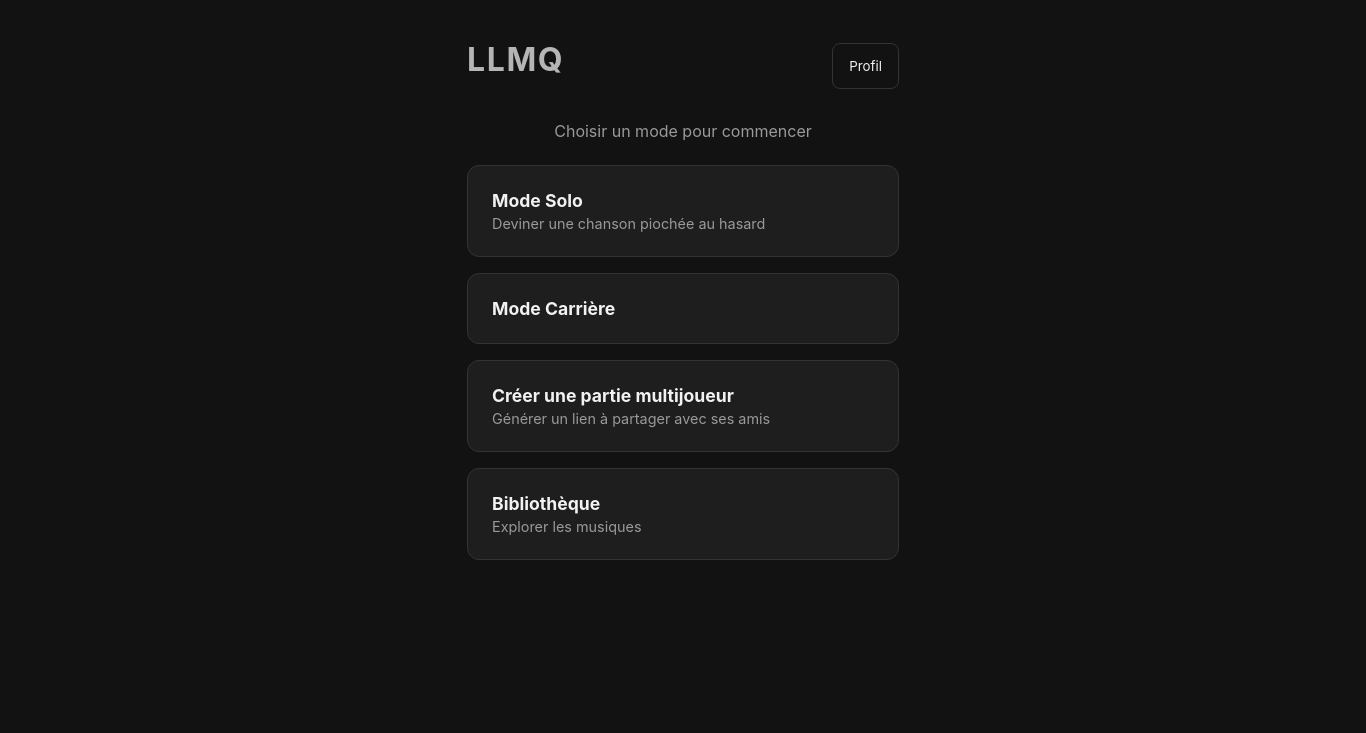
Scenario: App — Mode Carrière › the guessing screen of a single round is titled Se faire connaître
The image size is (1366, 733).
Click the button "Mode Carrière": point(554, 308) [467,273,899,344]
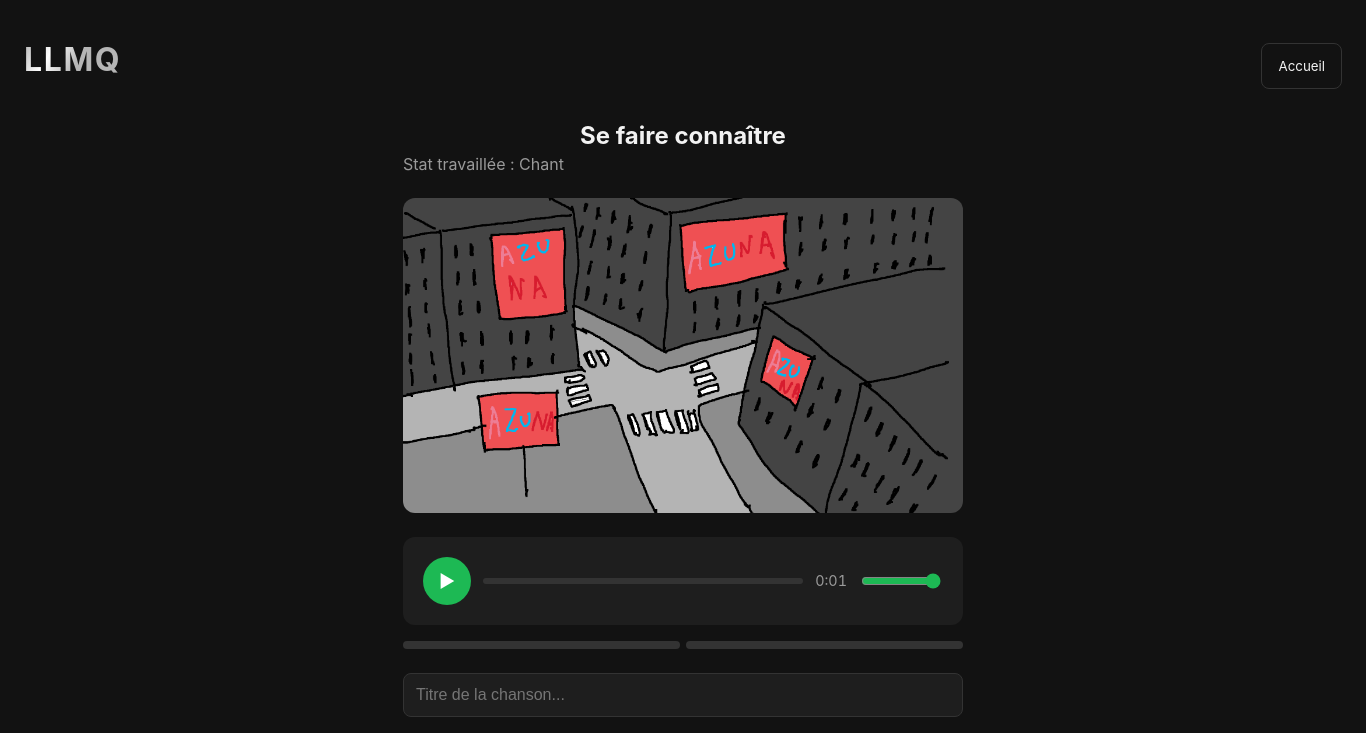
Expected: the heading "Se faire connaître" is shown, [580,121,786,150]
